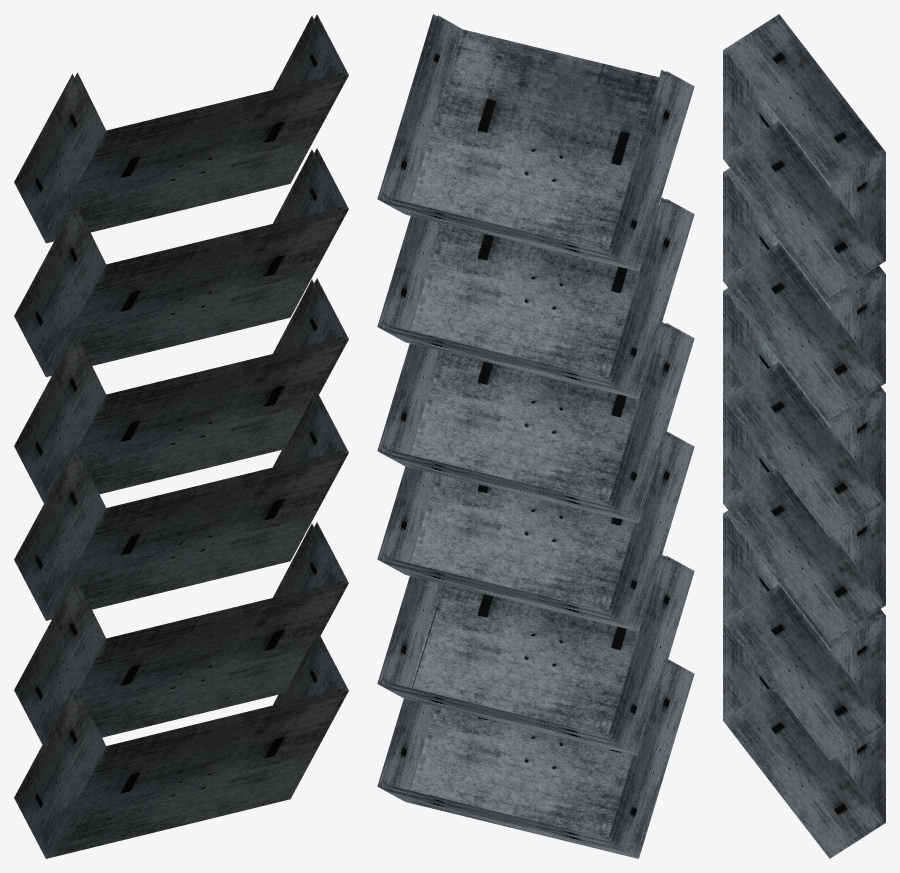
The model's file is store_57.obj.
The picture shows the model from 3 angles, left to right: view 1: azimuth 30°, elevation 25°; view 2: azimuth 150°, elevation 25°; view 3: azimuth 270°, elevation 25°; orthographic projection. The views are drawn at different scales.
Bounding box in the file's own units: 28.06 × 87.93 × 17.64.
